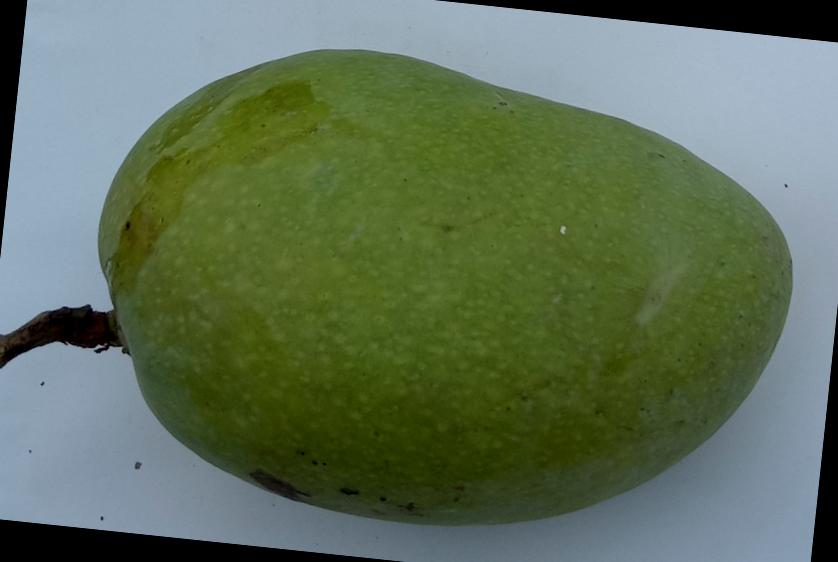Mango Unripe: (2, 0, 837, 562)
